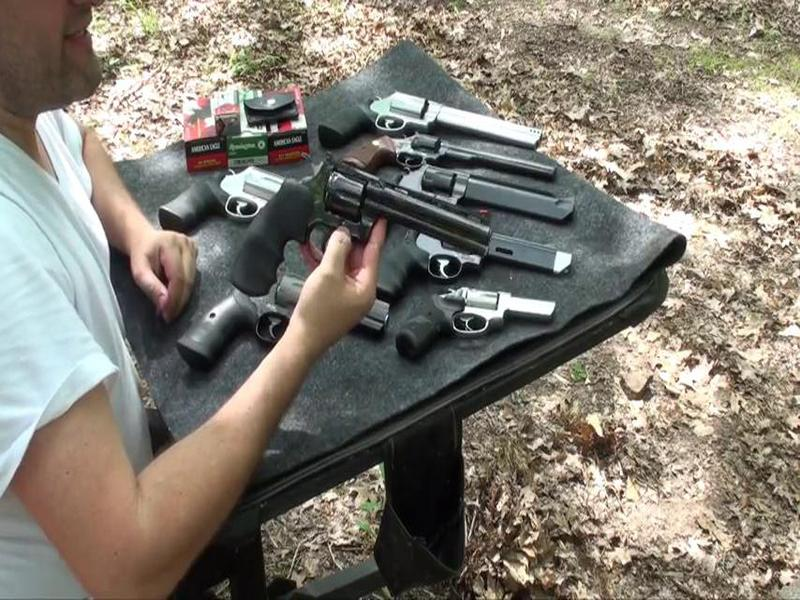Revolver: (214, 134, 487, 332)
